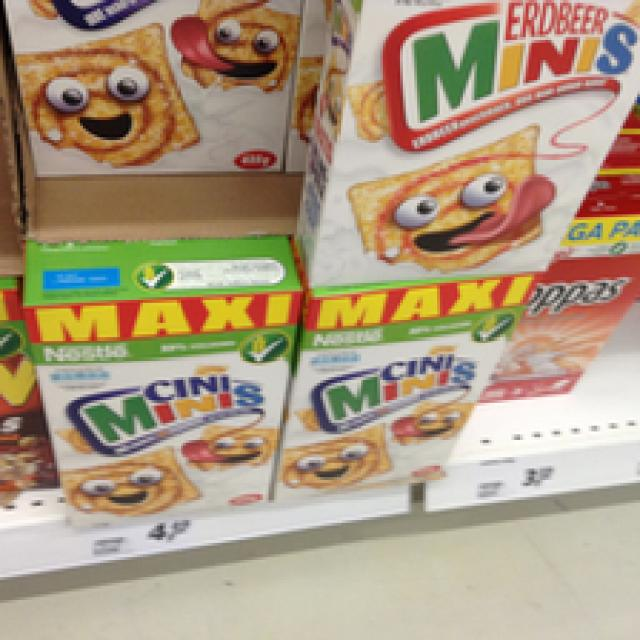groceries: (294, 0, 637, 283), (17, 232, 297, 517), (272, 283, 532, 497)
